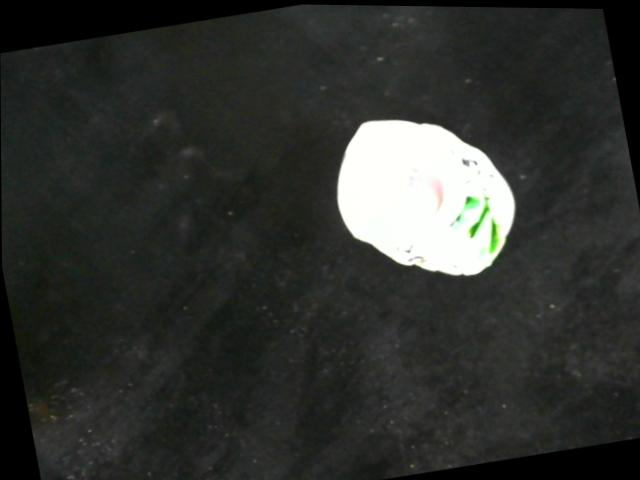can: (333, 111, 526, 285)
